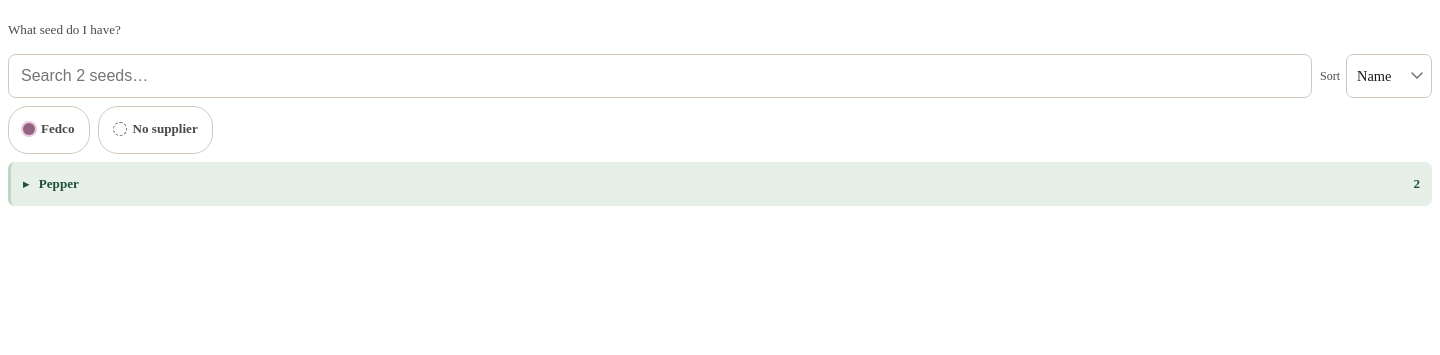
My seeds — what each card says › a bought F1 packet and every non-F2 row keep their order: chips that give way, then the amount, then the heat — no F2 chip, no neutral chip rigid
The image size is (1440, 355).
Expected: the element with test id "my-seeds-view" is shown, left=8, top=8, right=1432, bottom=206
Click the button with test id "facet-group-header". click: (59, 184)
box: left=8, top=162, right=1432, bottom=206
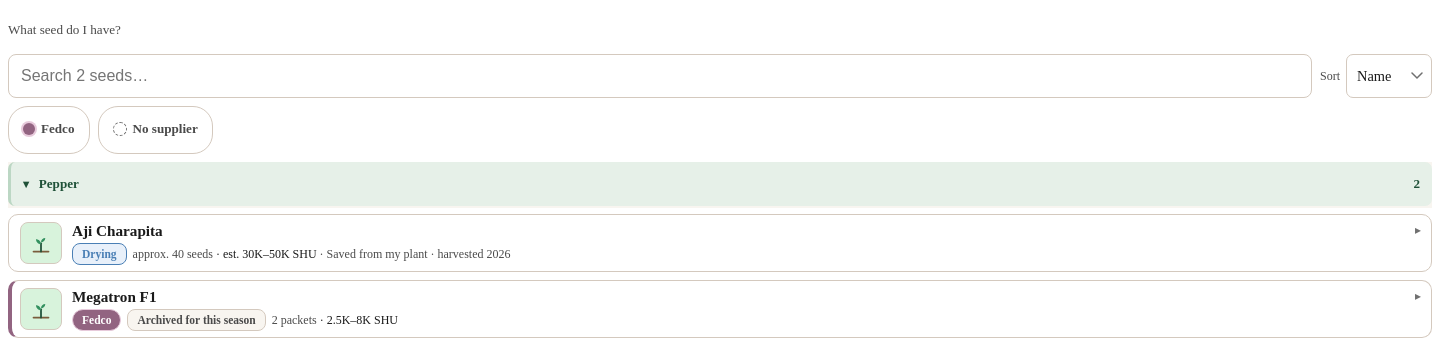
Expected: the 1st text "·" is shown, left=216, top=246, right=220, bottom=260
Now the elements with test id "my-seed-chip" read "Archived for this season", in this order, box left=127, top=309, right=266, bottom=331
